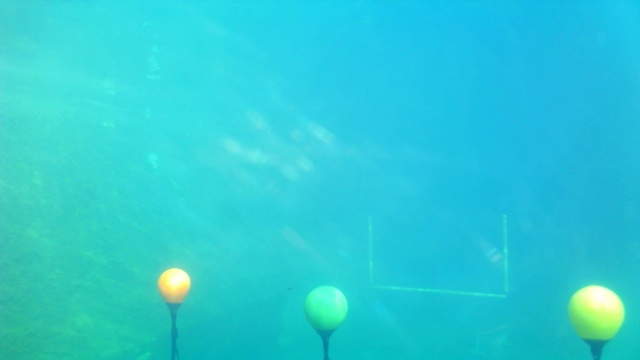buoy_green: (301, 282, 349, 343)
buoy_red: (156, 267, 191, 310)
channel: (366, 214, 510, 300)
